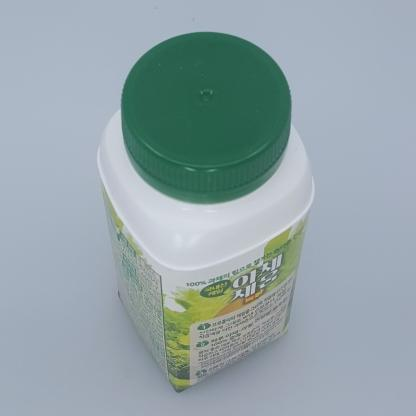---------190ML: (96, 32, 315, 393)
